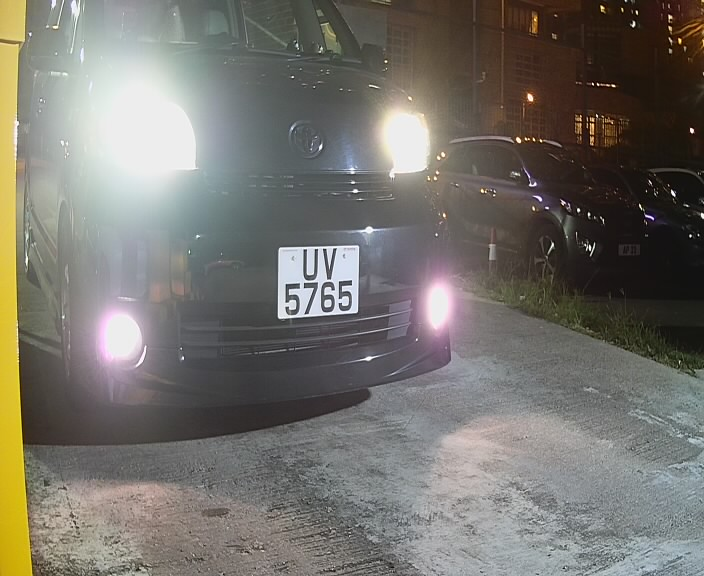Car: (2, 2, 505, 456)
License Plate: (266, 237, 367, 333)
